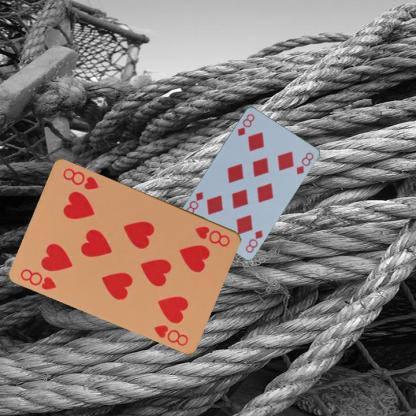8d: (243, 227, 264, 254), (235, 111, 256, 137)
8h: (192, 223, 232, 248), (18, 266, 58, 291)
